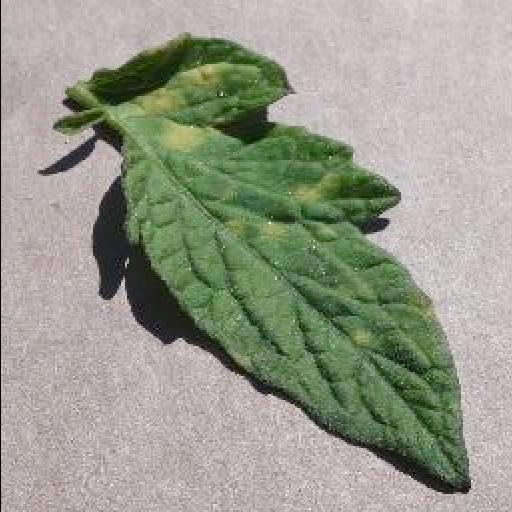disease_tomato: (92, 31, 470, 495)
